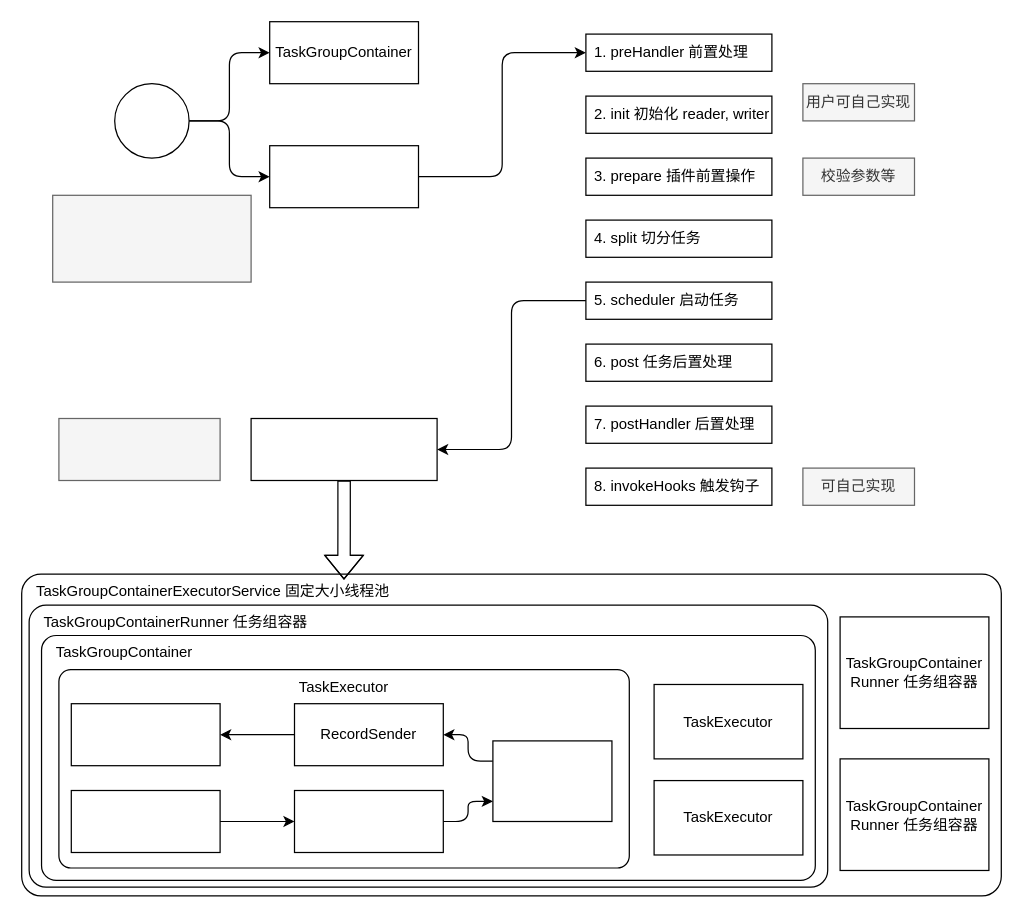
Image size: 1023x918. Some labels were removed from this diagram. Each missing label, with the centre of its shape:
Channel: pixel 552 781
Engine: pixel 151 120
JobContainer: pixel 343 176
ReaderRunner (Thread): pixel 145 734
RecordReceiver: pixel 368 820
StandAloneScheduler: pixel 343 448
WriterRunner (Thread): pixel 145 820
任务启动类，创建一个数量固定的线程池来处理任务组容器: pixel 139 448
解析三个主要配置文件 1. 本次任务文件 job.json 2. 核心配置文件 core.json 3. 插件配置文件 plugin.json: pixel 151 238
